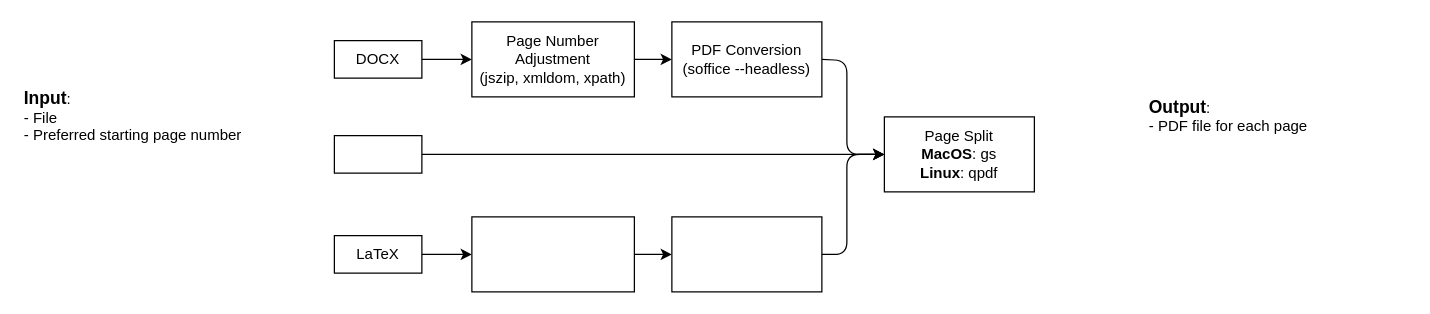
Some shapes in this 1430 by 314 pixel diagram are drawn without their labels. The shapes that lost their labels are listed below. From the top down, each one's centre as x and y in pixels, then its label:
At point 377,153: "PDF".
At point 552,254: "Page Number Adjustment (Code Injection)".
At point 746,254: "PDF Conversion (pdflatex)".
